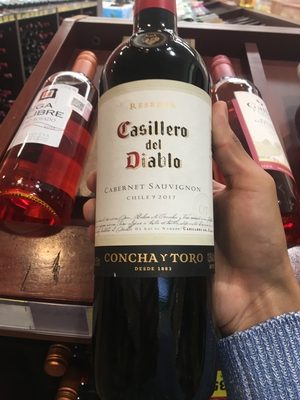casillero del diablo cabernet sauvignon: (85, 17, 231, 400)
